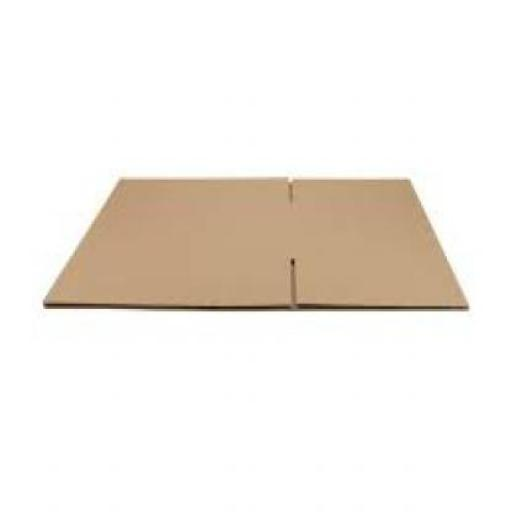cardboard: (43, 177, 467, 309)
